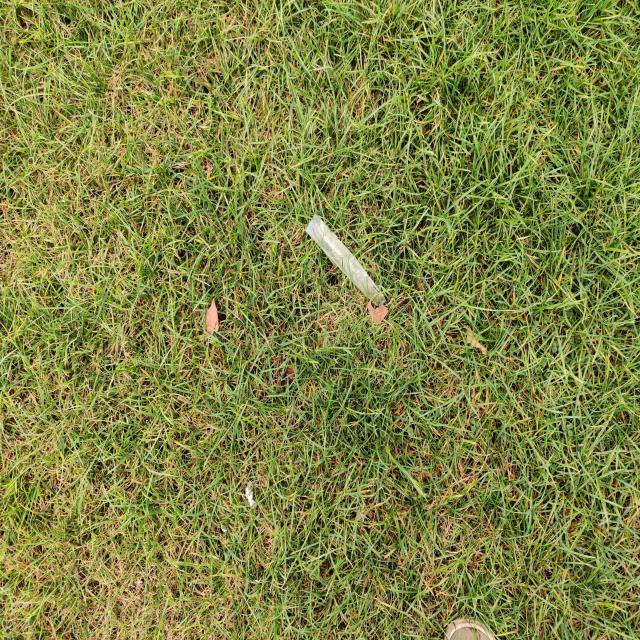litter: (301, 208, 384, 316), (239, 476, 255, 507)
